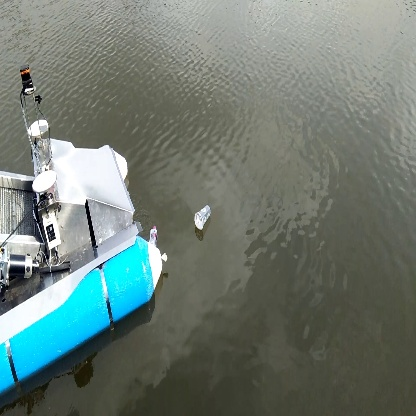bottle: (191, 202, 213, 235)
